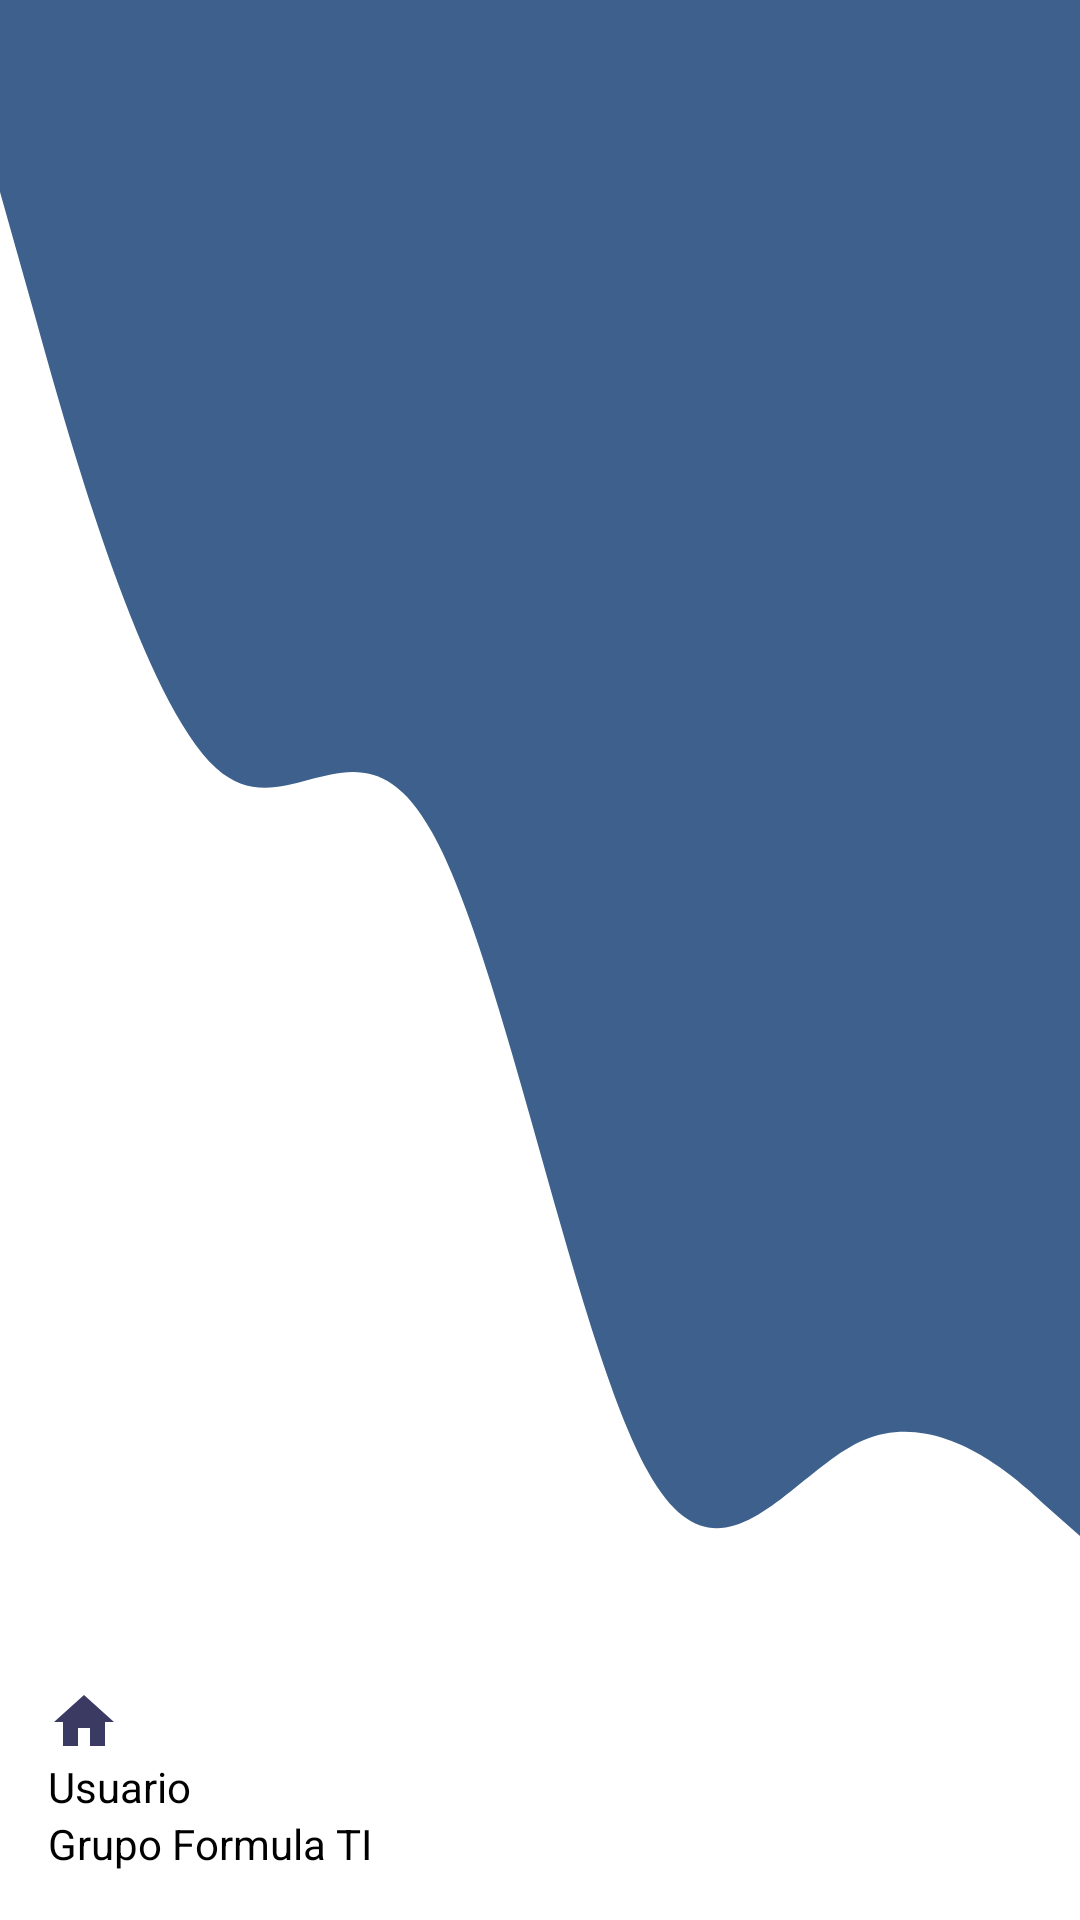

Icon bounding boxes for this 1080w x 1920h phone screenshot, format (x1, y1, x2, y2):
home app: (54, 1695, 114, 1746)
